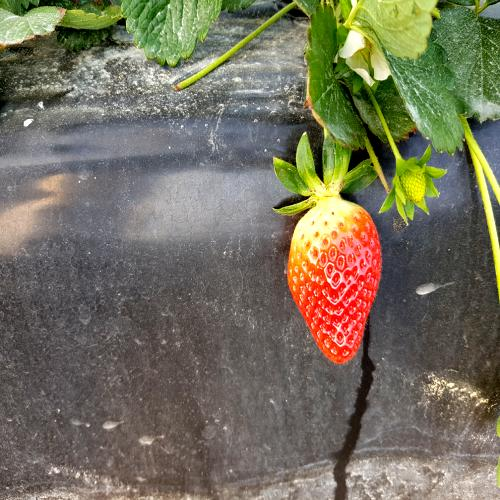ripe: (289, 171, 384, 375)
